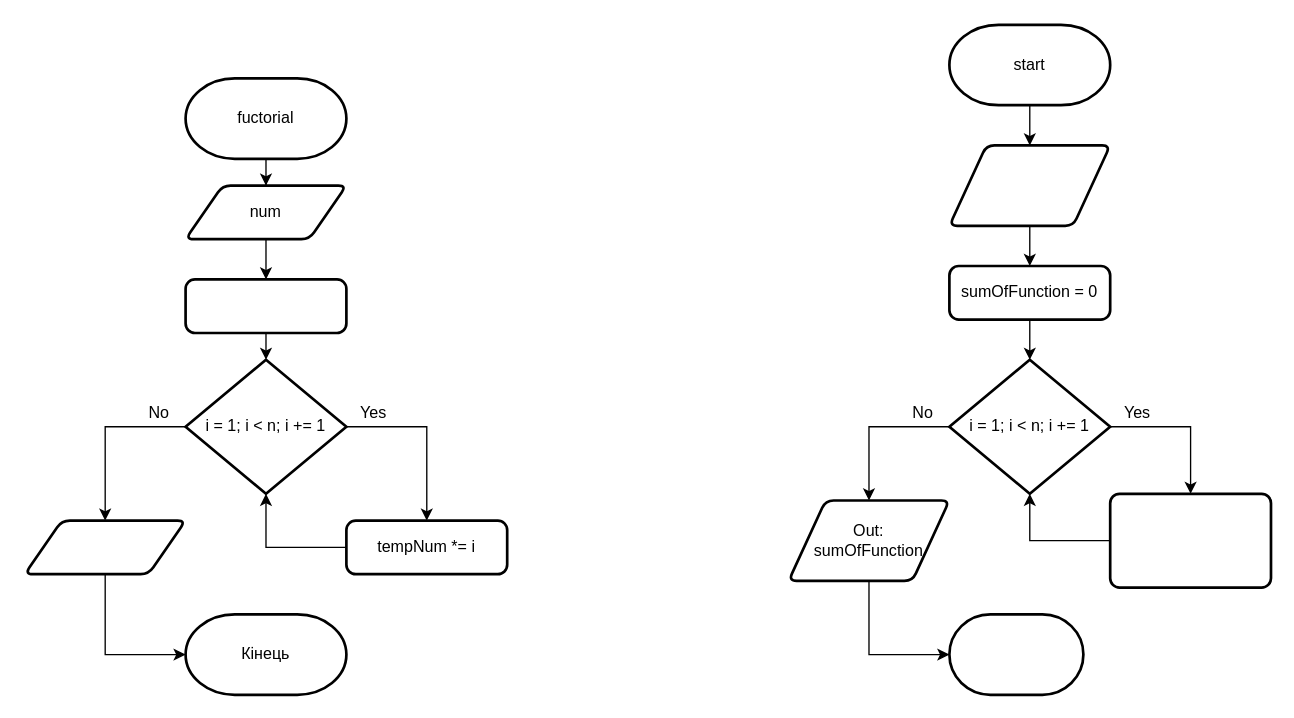
This 1294x718 diagram has some shape labels left out. Each missing label, with the box of its shape:
end: (947, 612, 1084, 695)
sumOfFunction += 1 / i! + sqrt |x|: (1108, 492, 1272, 588)
temp num: (23, 519, 186, 575)
tempNum = num: (184, 277, 347, 334)
x, n: (947, 143, 1111, 226)
